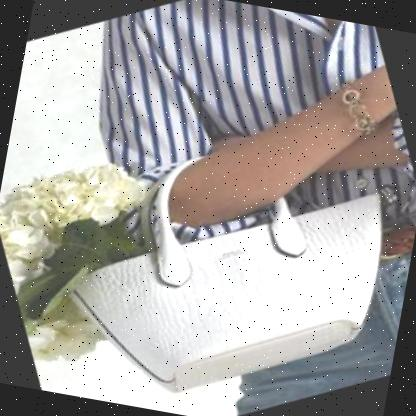bag: (54, 119, 407, 416)
